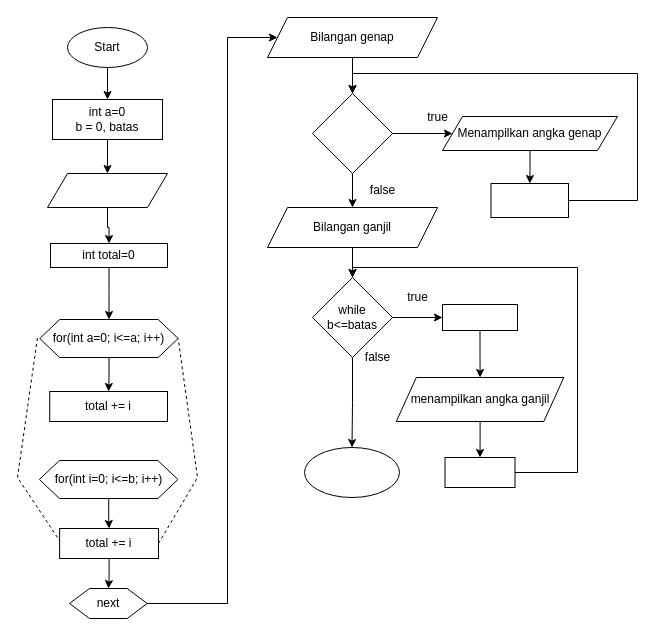
This 663x636 diagram has some shape labels left out. Here are the shapes that lost their labels. From the top down, the centre of each, then its label:
At point (352, 133): "while a<=batas".
At point (107, 190): "masukan batas".
At point (529, 200): "a += 2".
At point (480, 317): "b = b+1".
At point (352, 472): "END".
At point (479, 472): "b++".
